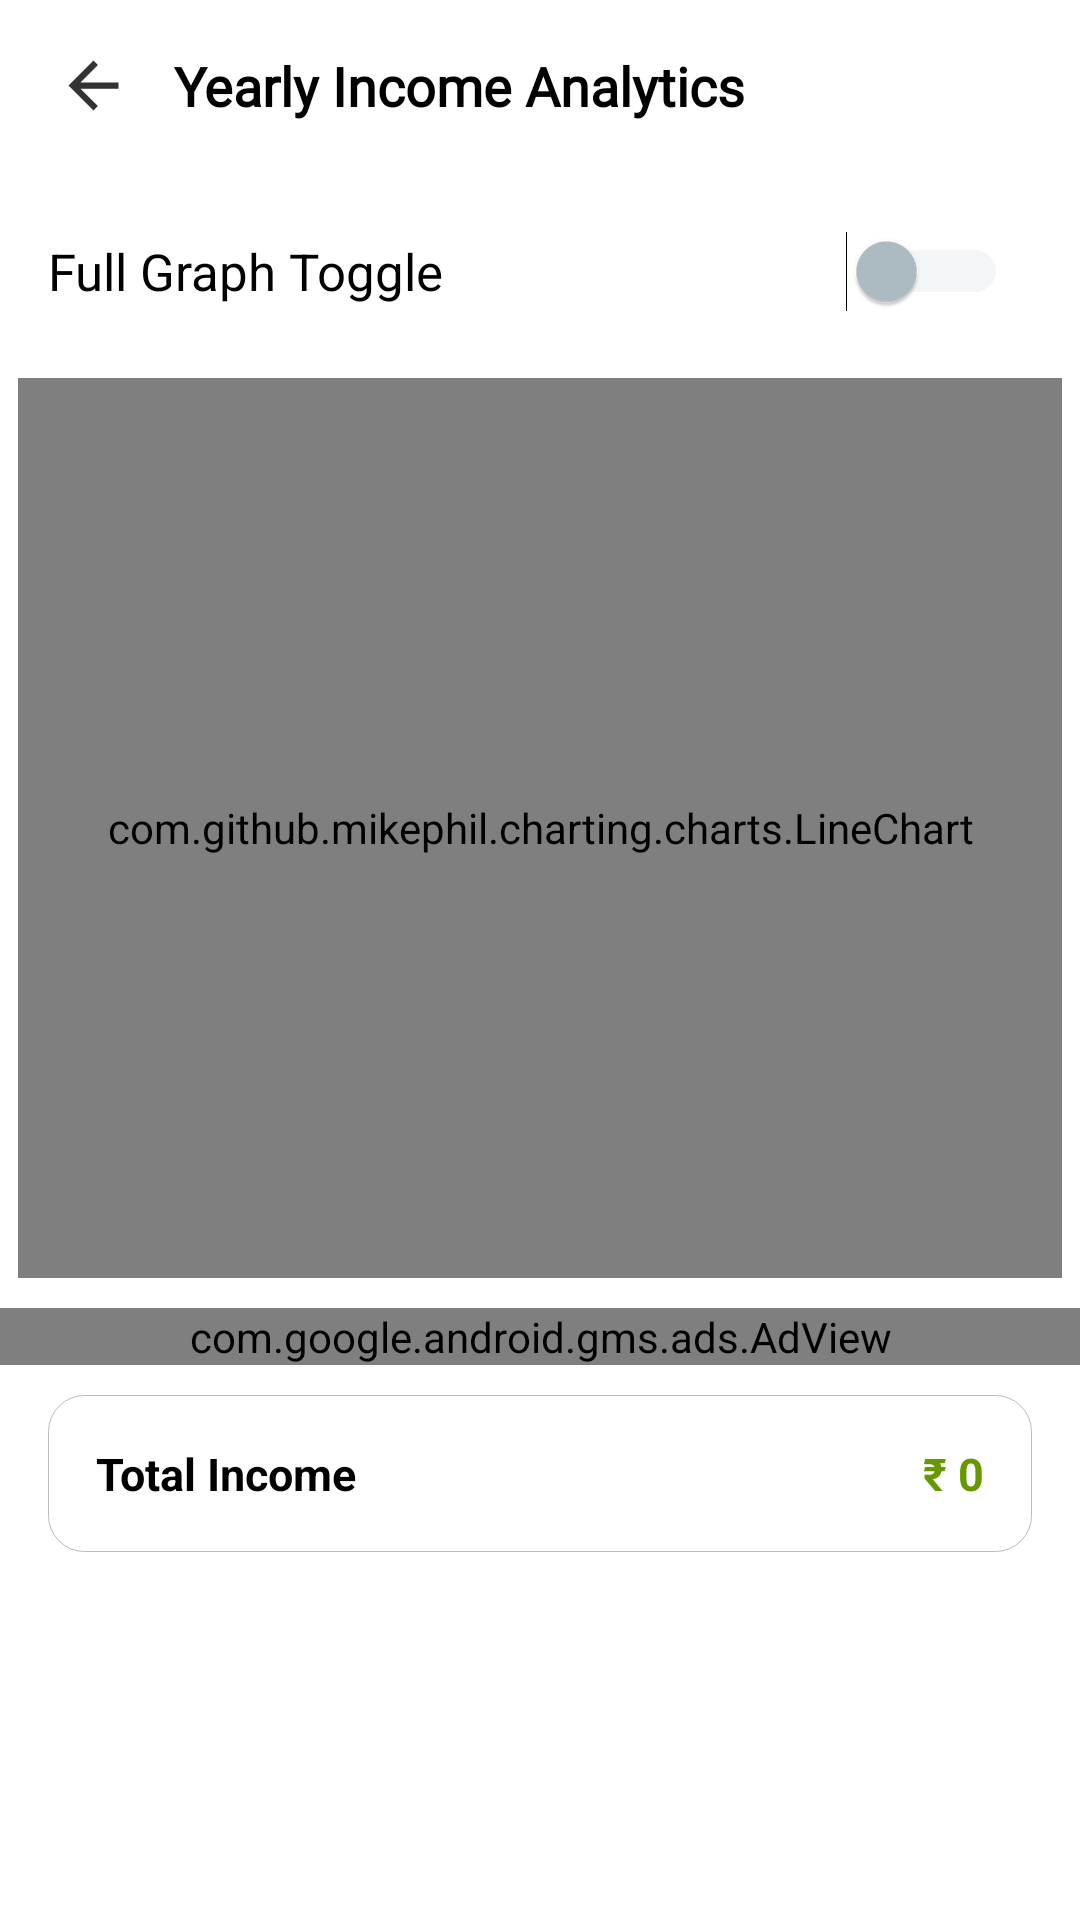

Icon click points for this 1080w x 1920h phone screenshot, format (x,y):
back: (93,85)
